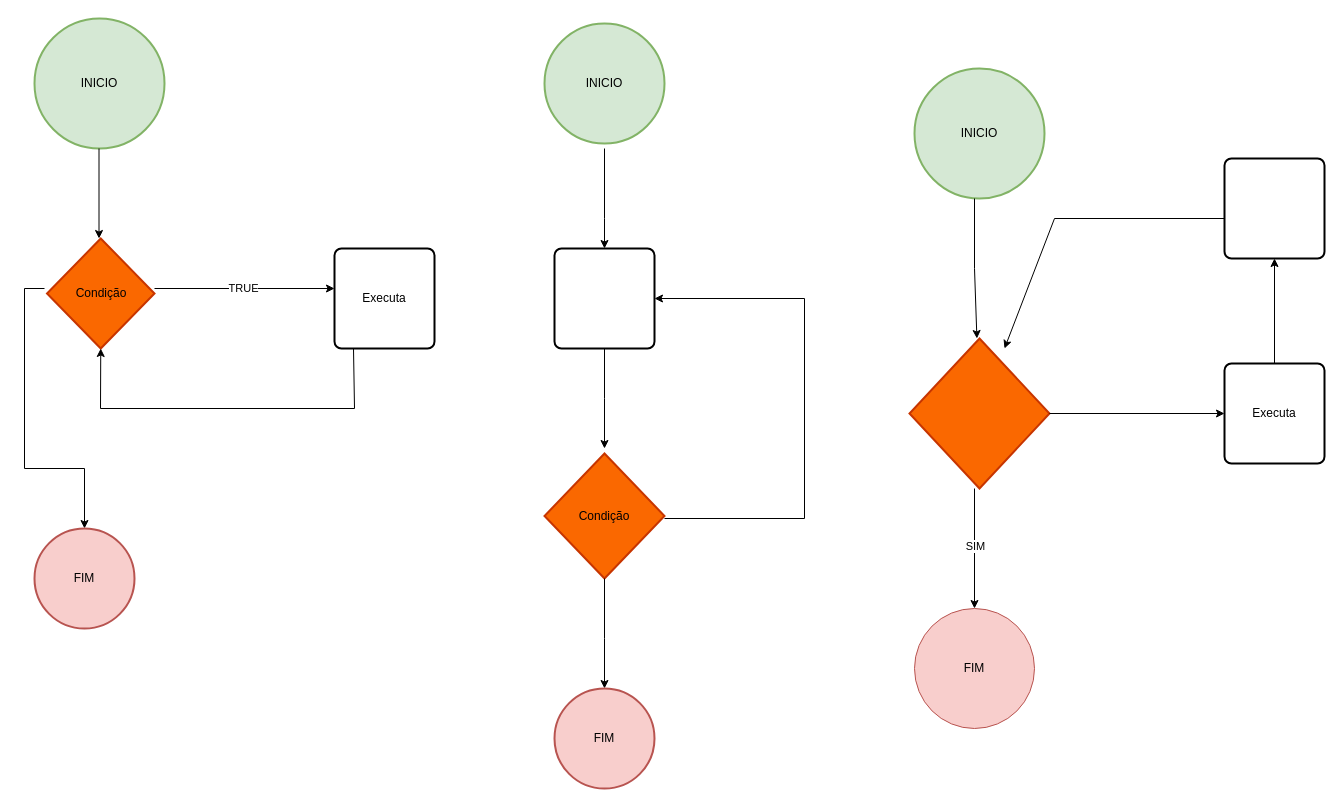
Image size: 1343x806. Some labels were removed from this diagram. Here are the shapes that lost their labels. From the top down, the box of each, then its label:
(1223, 157, 1325, 259): Incrementa a contagem
(553, 247, 655, 349): Executar
(908, 337, 1050, 489): Ultima?
